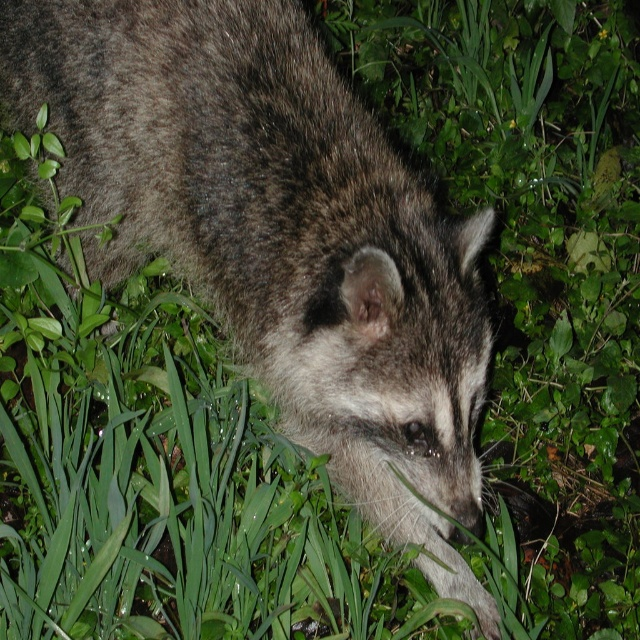Raccoon: (0, 0, 503, 640)
